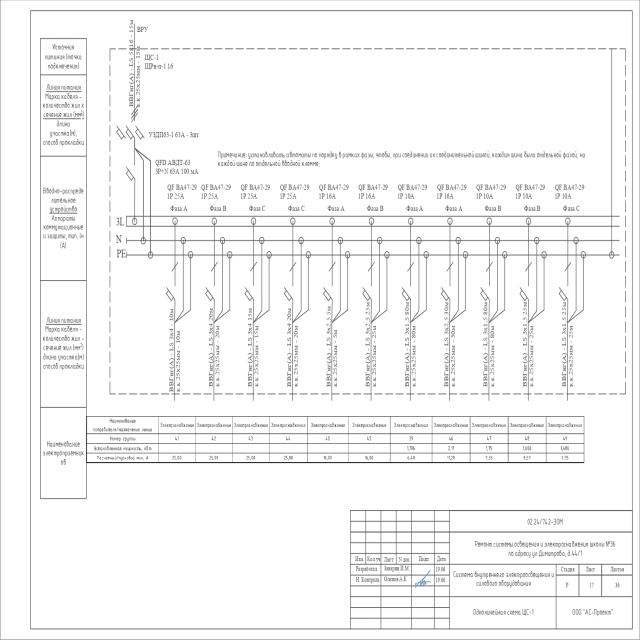-: (155, 158, 202, 176), (147, 127, 200, 142), (396, 183, 429, 202), (319, 182, 352, 201), (200, 182, 233, 201), (357, 183, 389, 202), (475, 182, 507, 201), (514, 182, 546, 201), (238, 182, 271, 200), (553, 182, 586, 200), (166, 182, 198, 200), (436, 183, 468, 201), (279, 183, 311, 201), (144, 51, 174, 70)
QF: (116, 102, 140, 140), (132, 102, 145, 140), (125, 103, 138, 140), (204, 280, 216, 302), (557, 282, 569, 304), (283, 283, 295, 304), (245, 282, 257, 303), (401, 282, 413, 303), (362, 281, 373, 303), (323, 280, 334, 302), (126, 162, 137, 184), (440, 280, 451, 302), (165, 282, 176, 303), (519, 282, 530, 303), (480, 283, 491, 304)
